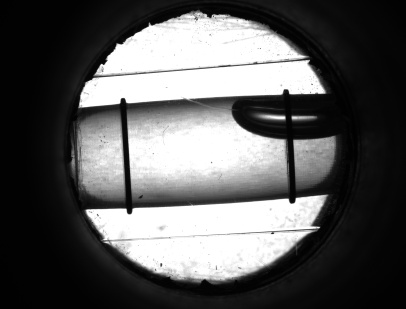line: (115, 114, 137, 191), (280, 145, 301, 186)
